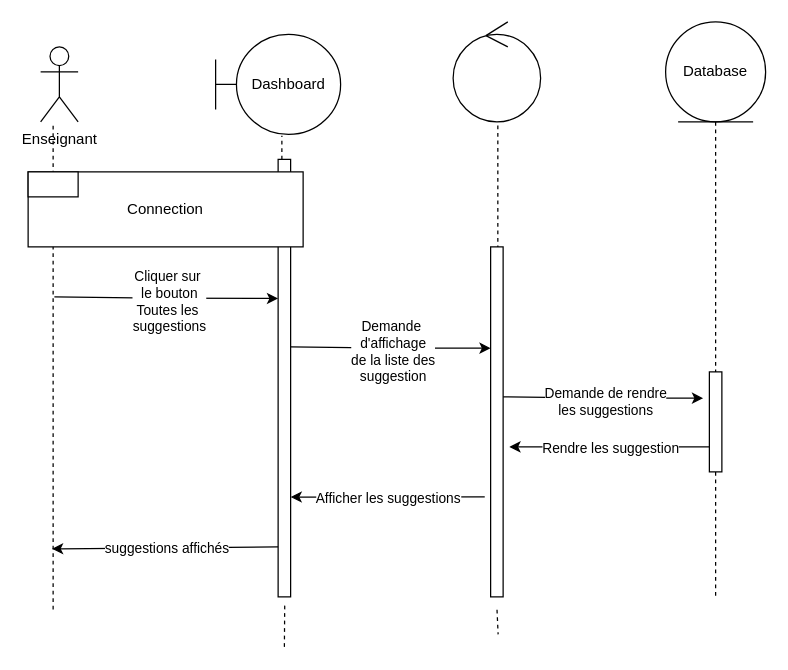
This 788x670 diagram has some shape labels left out. Here are the shapes that lost their labels. From the top down, the centre of each, then its label:
pixel 496 71: Controleur
pixel 52 184: REF
